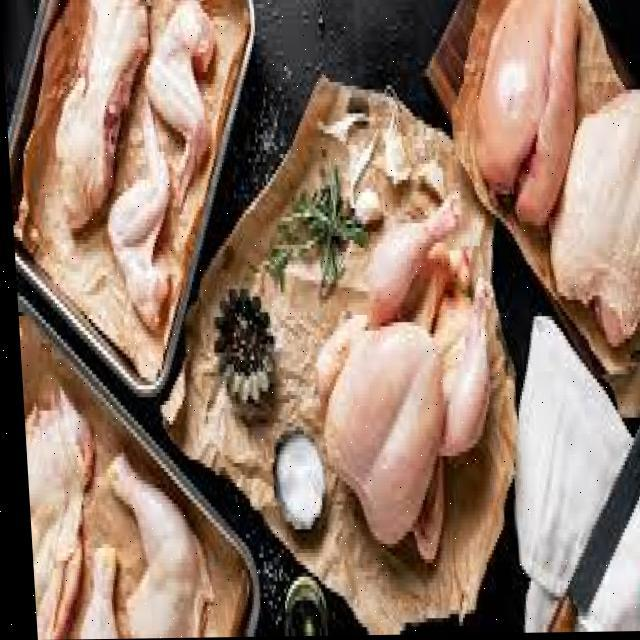quater: (89, 448, 223, 639), (140, 5, 228, 181)
wing: (89, 134, 183, 318)
